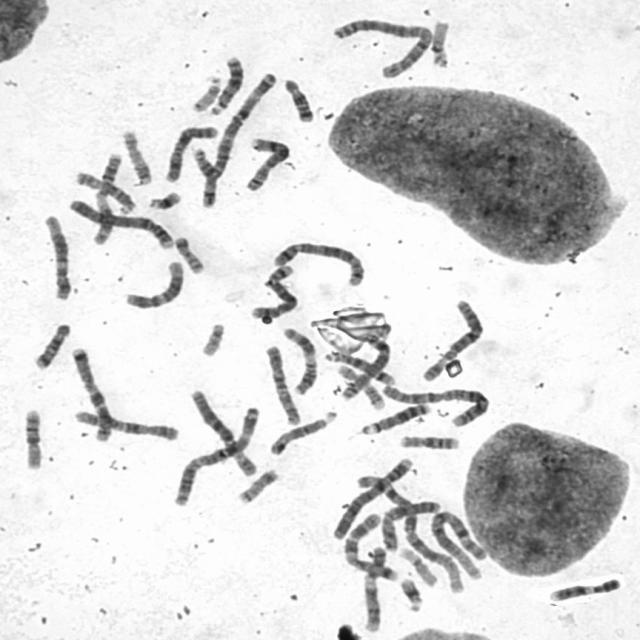A1: (353, 470, 467, 594), (425, 504, 489, 584)
A2: (326, 12, 435, 80), (374, 378, 493, 428)
A3: (189, 65, 279, 181), (168, 400, 262, 507)
B4: (326, 452, 415, 542), (64, 193, 177, 250)
B5: (267, 236, 367, 287), (245, 260, 300, 321)
C10: (68, 404, 182, 442), (259, 339, 303, 426)
C11: (86, 147, 125, 245), (277, 322, 320, 395)
C12: (120, 256, 188, 310), (38, 209, 74, 301)
C6: (185, 383, 261, 478), (416, 294, 486, 383)
C7: (64, 341, 116, 443), (338, 506, 401, 582)
C8: (334, 327, 392, 401), (240, 132, 293, 192)
C9: (357, 540, 390, 634), (544, 572, 624, 603)
D13: (357, 398, 433, 434), (206, 50, 246, 115)
D14: (319, 346, 397, 386), (190, 144, 221, 209)
D15: (264, 406, 339, 457), (70, 166, 138, 214)
E16: (17, 402, 45, 470), (394, 430, 462, 450)
E17: (332, 359, 387, 411), (117, 124, 155, 186)
E18: (28, 318, 73, 370), (278, 72, 316, 124)
F19: (394, 541, 439, 588), (426, 15, 454, 69)
F20: (232, 464, 282, 504), (169, 230, 207, 274)
G21: (394, 572, 426, 613), (142, 185, 183, 211)
G22: (187, 70, 224, 113), (195, 317, 228, 358)
X: (160, 120, 222, 184), (376, 495, 444, 553)
